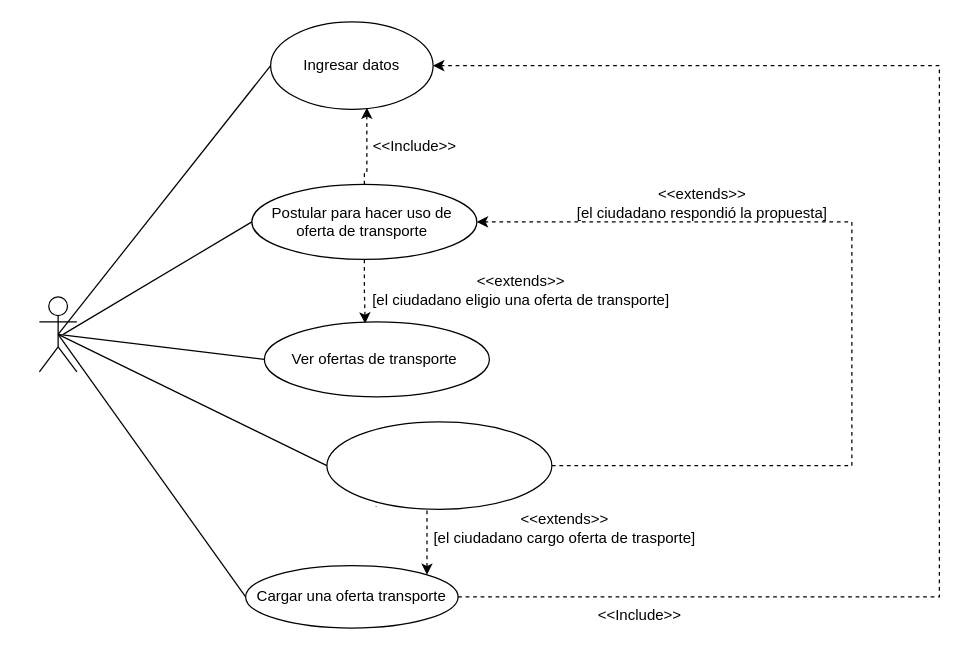
Some shapes in this 971 by 650 pixel diagram are drawn without their labels. Here are the shapes that lost their labels. From the top down, the centre of each, then its label:
At point 57,334: "Ciudadano".
At point 439,465: "Aceptar/rechazar postulantes a oferta de transporte".
